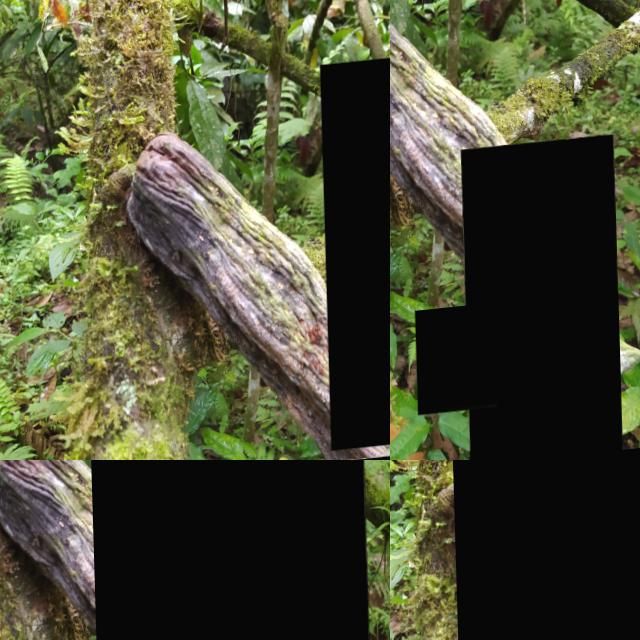Fitoftora: (458, 144, 618, 460), (451, 460, 640, 640), (319, 65, 390, 458)
Monilia: (87, 460, 371, 640)
Sana: (412, 311, 494, 421)
